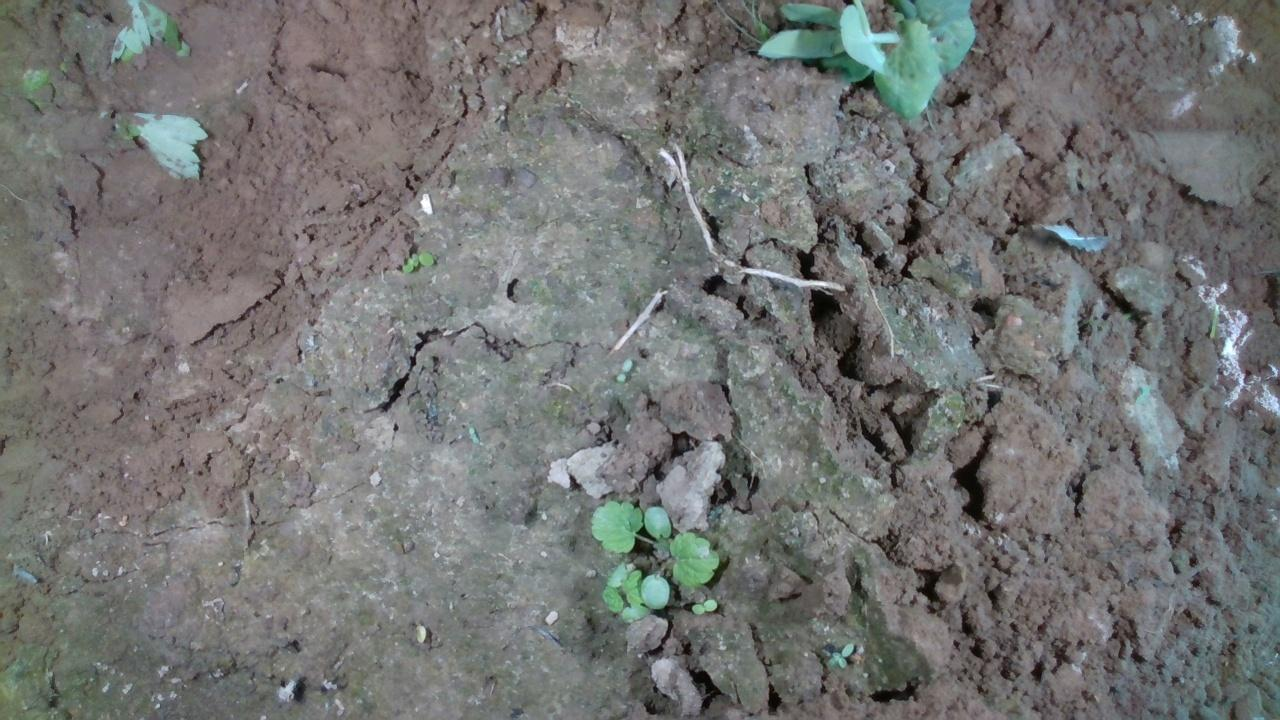weed: (399, 245, 438, 268), (615, 353, 647, 379)
